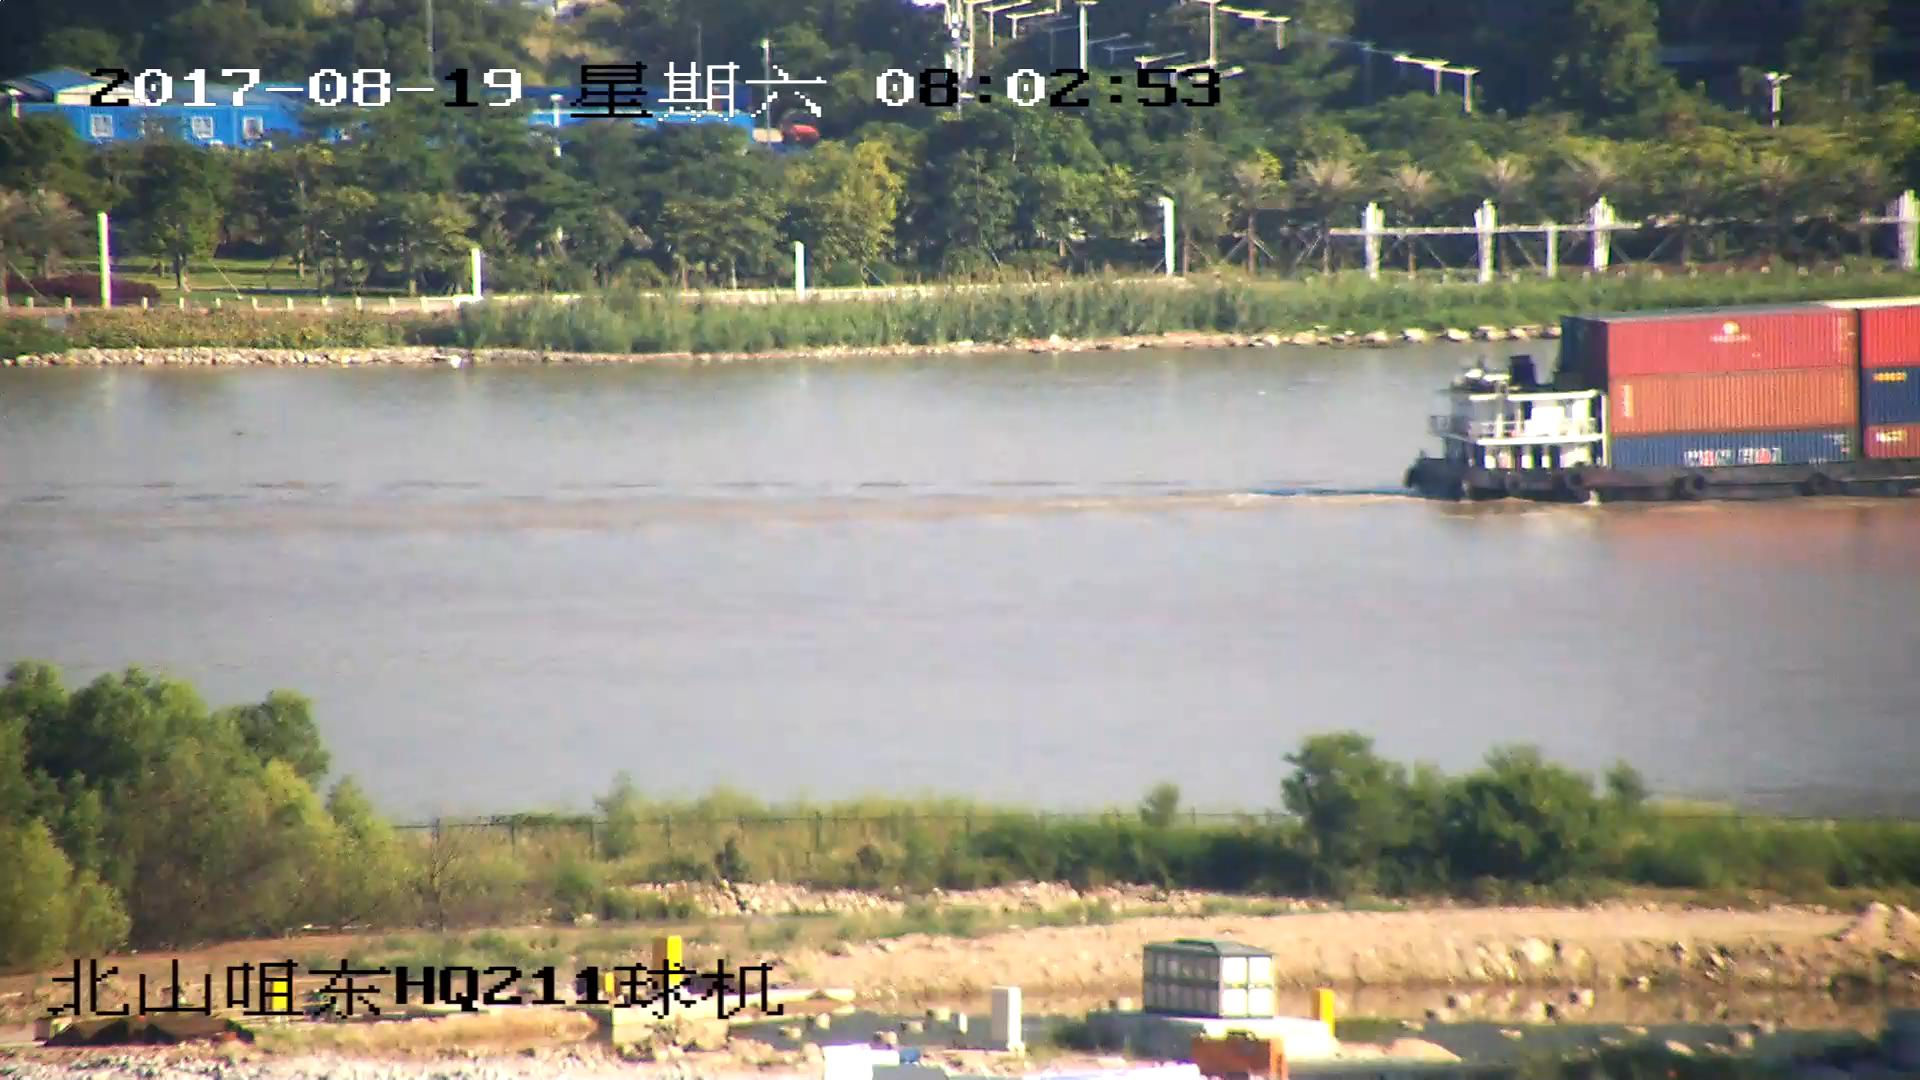container ship: (1408, 295, 1920, 505)
